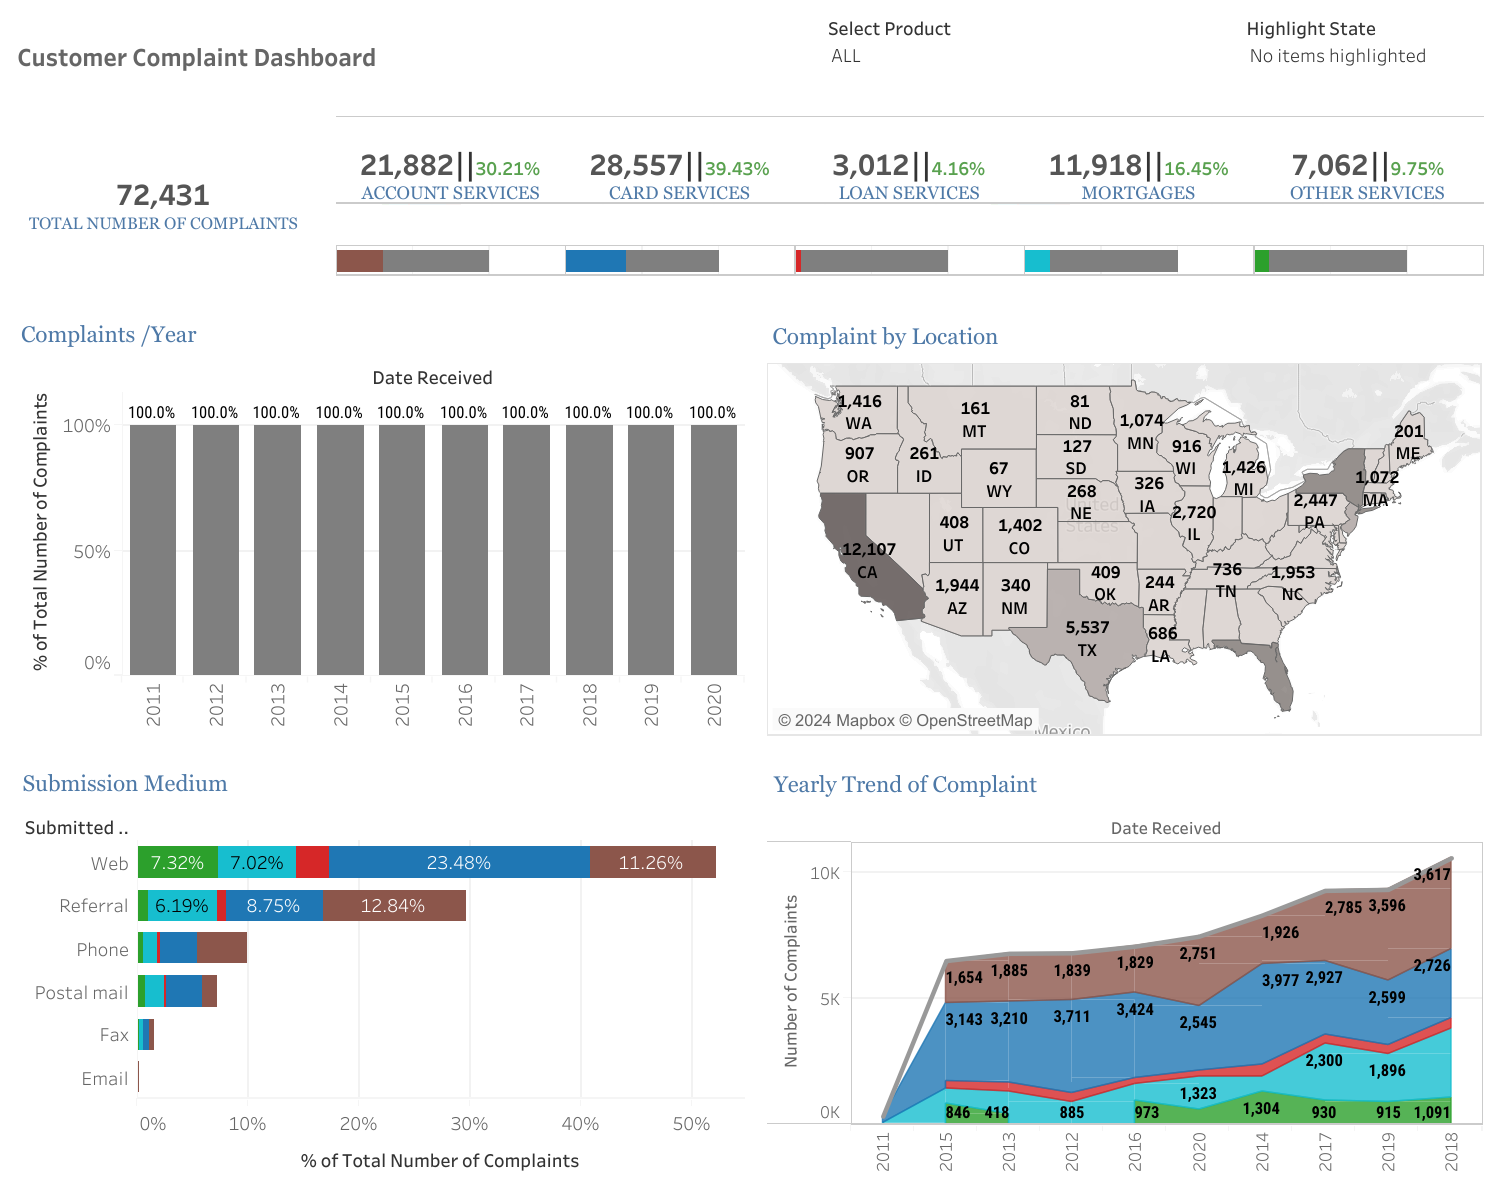

Layout of this report page (visuals, bound fields, positions):
{"tool":"tableau","page":{"name":"Dashboard 2","canvas":[1000,800],"ordinal":0},"visuals":[{"type":"text","box":[5,4,543,67]},{"type":"parameter","param":"[Parameters].[Parameter 1]","box":[548,4,279,67]},{"type":"highlighter","title":"Map","param":"[federated.05f5hya1kxkkx71b35dzd0l6dvvr].[none:State:nk]","box":[827,4,168,67]},{"type":"worksheet","title":"TOTAL KPI","mark":"Automatic","box":[3,73,212,124]},{"type":"worksheet","title":"KPI","mark":"Automatic","box":[220,73,774,67]},{"type":"worksheet","title":"% of complaints","mark":"Bar","cols":["Calculation_15129321890570292","Number of Complaints"],"box":[220,159,774,39]},{"type":"worksheet","title":"Complaints/Year","mark":"Bar","cols":["Date Received"],"box":[6,204,494,290]},{"type":"worksheet","title":"Map","mark":"Multipolygon","box":[507,205,485,290]},{"type":"worksheet","title":"Request Type","mark":"Automatic","rows":["Submitted via"],"box":[7,503,493,290]},{"type":"worksheet","title":"Year Trend","mark":"Area","rows":["Number of Complaints","Number of Complaints"],"cols":["Date Received"],"box":[508,504,486,290]}]}

Visuals, with their boxes in screenshot pixels (x1, y1, x2, y2), scaled from the page's 1000x800 canvas onto the 1499x1199 screenshot:
text: (x1=7, y1=6, x2=821, y2=106)
parameter: (x1=821, y1=6, x2=1240, y2=106)
"Map" highlighter: (x1=1240, y1=6, x2=1492, y2=106)
"TOTAL KPI" worksheet: (x1=4, y1=109, x2=322, y2=295)
"KPI" worksheet: (x1=330, y1=109, x2=1490, y2=210)
"% of complaints" worksheet (Bar marks): (x1=330, y1=238, x2=1490, y2=297)
"Complaints/Year" worksheet (Bar marks): (x1=9, y1=306, x2=750, y2=740)
"Map" worksheet (Multipolygon marks): (x1=760, y1=307, x2=1487, y2=742)
"Request Type" worksheet: (x1=10, y1=754, x2=750, y2=1189)
"Year Trend" worksheet (Area marks): (x1=761, y1=755, x2=1490, y2=1190)
